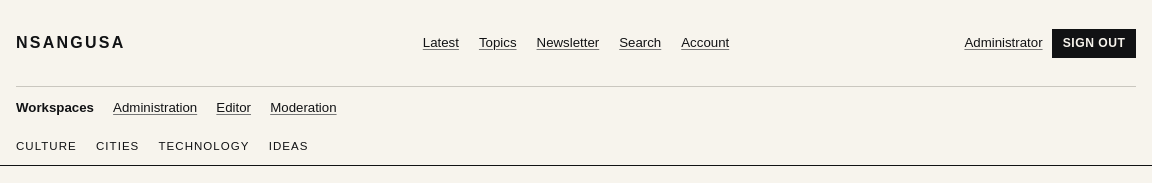
Test: SiteHeader › retains the account and surfaces a failed logout without claiming success
The image size is (1152, 183).
Click the button with aria-label "Sign out of your account". click: click(1094, 43)
box: [1052, 29, 1136, 58]
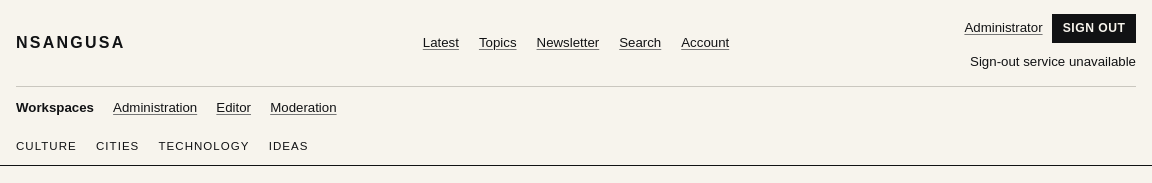
Expected: the link "Administration" is shown, [113, 98, 197, 118]
Now the message reads "Sign-out service unavailable", box [970, 54, 1136, 69]
